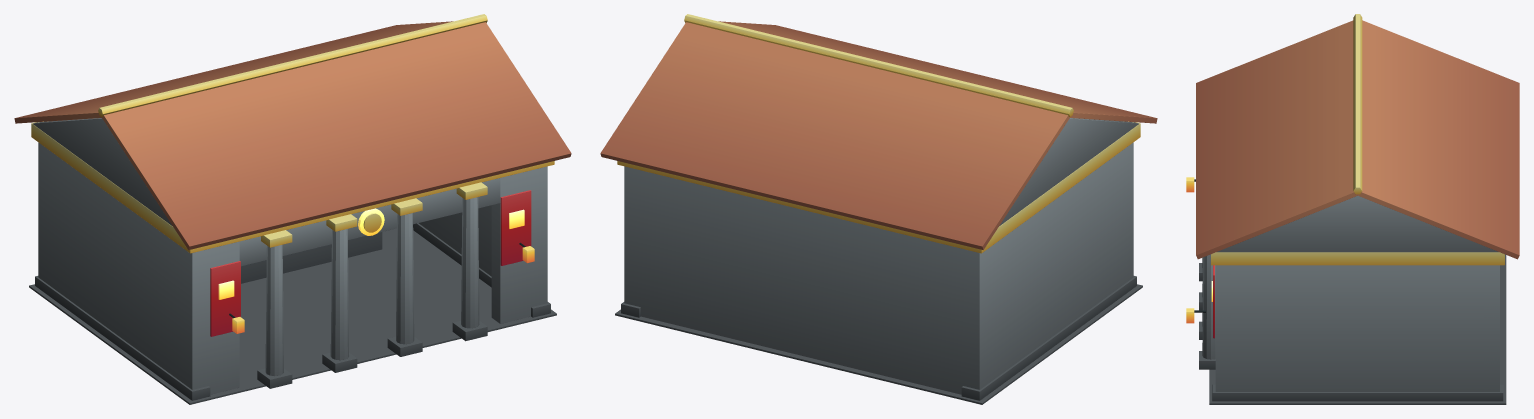
The model's file is bank_emberhold.glb.
3 views of the same model, side by side, from view 1: azimuth 30°, elevation 25°; view 2: azimuth 150°, elevation 25°; view 3: azimuth 270°, elevation 25° (orthographic). The views are drawn at different scales.
Parts seen in each view (by area): view 1: bank_emberhold; view 2: bank_emberhold; view 3: bank_emberhold.
Part boxes in pixels (box(x1,y1,x2,y2)): bank_emberhold: box(14, 14, 571, 404); bank_emberhold: box(600, 14, 1157, 404); bank_emberhold: box(1186, 14, 1519, 404).
Size of the model in its own units: 13 by 7.73 by 10.55.
4 materials, 4 textured.
